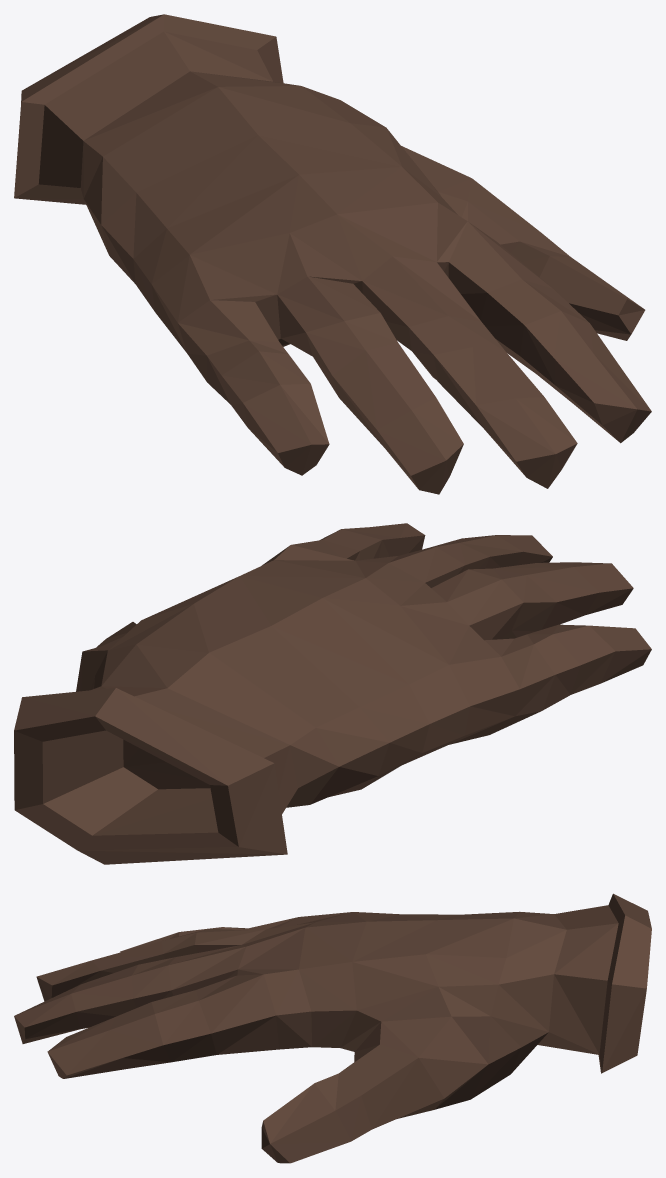
The picture shows the model from 3 angles, top to bottom: view 1: azimuth 30°, elevation 25°; view 2: azimuth 150°, elevation 25°; view 3: azimuth 270°, elevation 25°; orthographic projection. The views are drawn at different scales.
Parts seen in each view (by area): view 1: Glove__ncl1_29.000; view 2: Glove__ncl1_29.000; view 3: Glove__ncl1_29.000.
Part boxes in pixels (<box>): Glove__ncl1_29.000: <box>14,14,651,494</box>; Glove__ncl1_29.000: <box>14,523,651,864</box>; Glove__ncl1_29.000: <box>14,893,651,1163</box>.
Bounding box in the file's own units: 0.5983 × 0.2681 × 0.9558.
